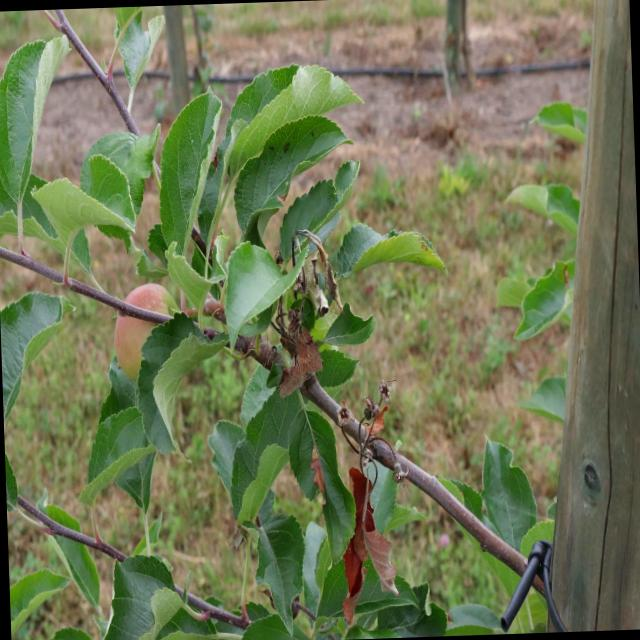-FireBlight-: (347, 419, 389, 602), (284, 238, 332, 389)
